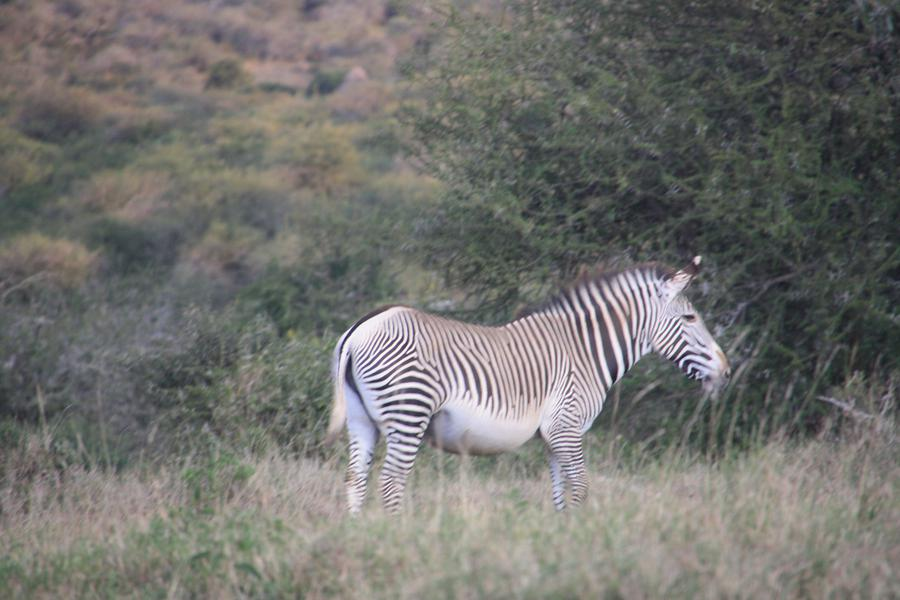zebra_grevys: (338, 300, 595, 428)
